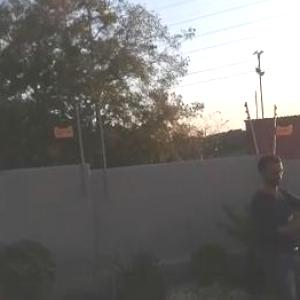follow: (244, 149, 300, 299)
